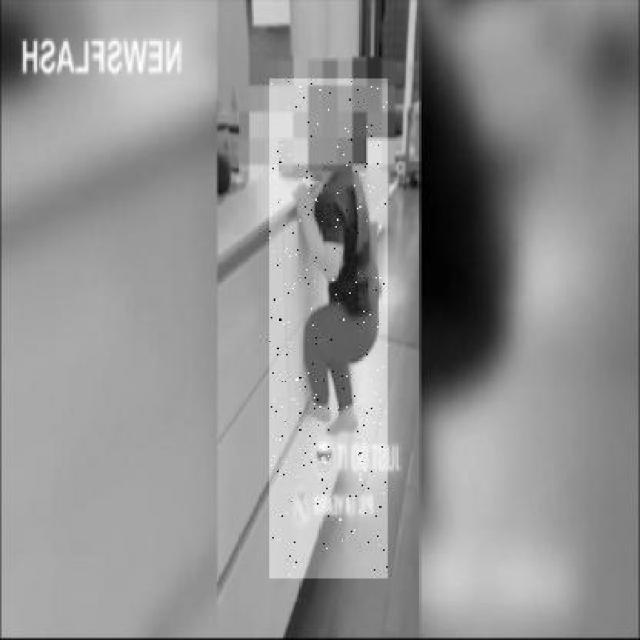child: (270, 79, 388, 579)
